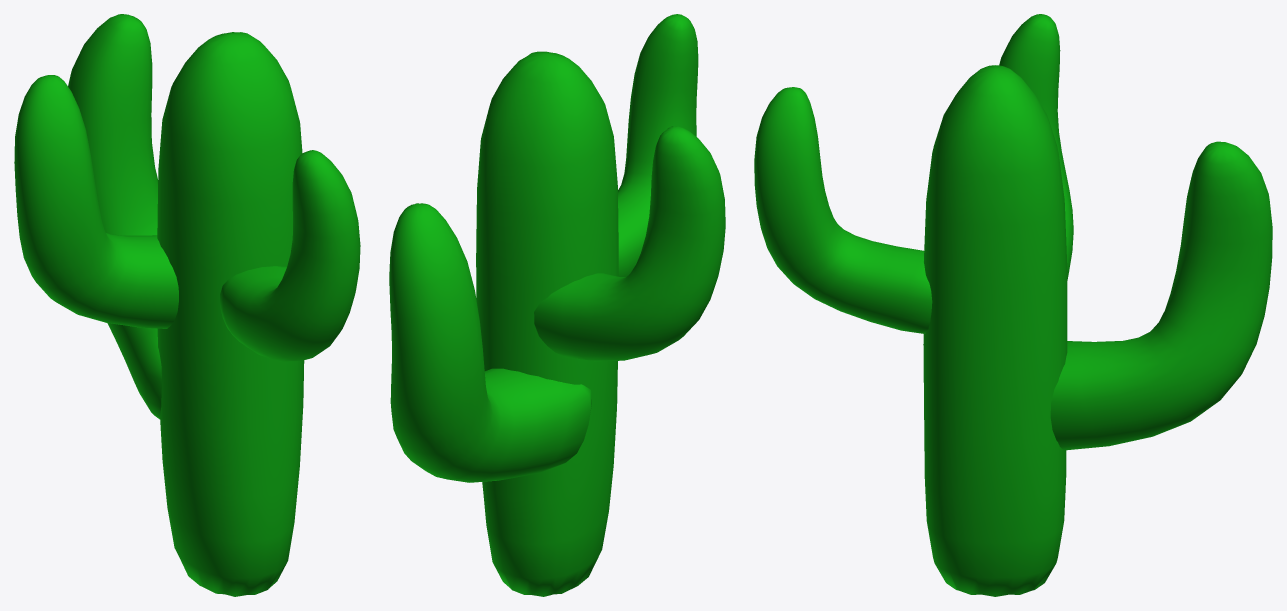
The model's file is Cactus3.fbx.
3 views of the same model, side by side, from view 1: azimuth 30°, elevation 25°; view 2: azimuth 150°, elevation 25°; view 3: azimuth 270°, elevation 25° (orthographic). The views are drawn at different scales.
Parts seen in each view (by area): view 1: Cactus3; view 2: Cactus3; view 3: Cactus3.
Part boxes in pixels (box(x1,y1,x2,y2)): Cactus3: box(14, 14, 360, 596); Cactus3: box(389, 14, 725, 596); Cactus3: box(754, 14, 1272, 596).
Bounding box in the file's own units: 1.56 × 2.88 × 3.21.
